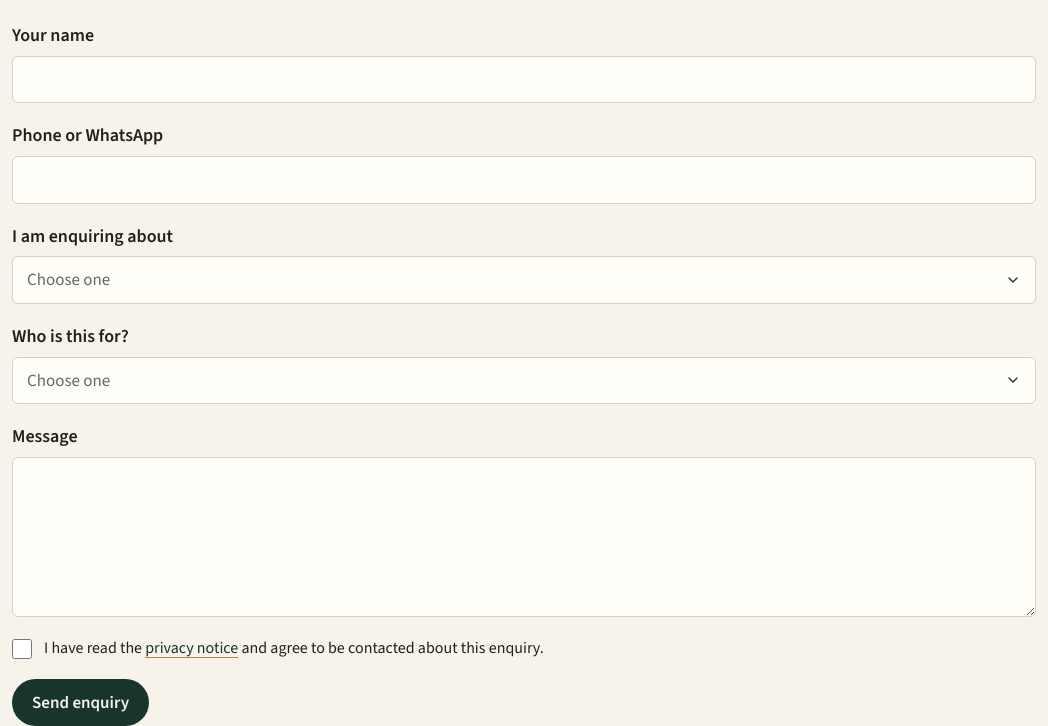
Test: EnquiryForm feedback › shows what was submitted after a successful send
(page scrolled)
Step 1. Click the button "Send enquiry" → {"x": 81, "y": 703}, box x1=12 y1=679 x2=149 y2=725
(page scrolled)
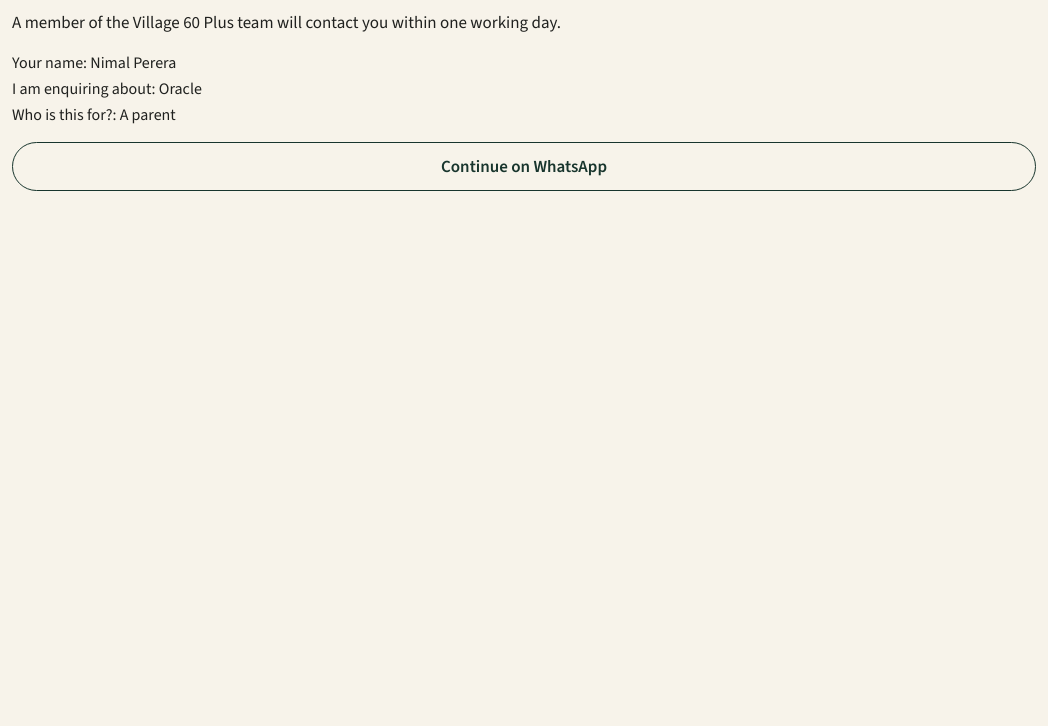
expect the message shows "Nimal Perera": met, box x1=12 y1=52 x2=176 y2=73
expect the message shows "Oracle": met, box x1=12 y1=78 x2=202 y2=99
